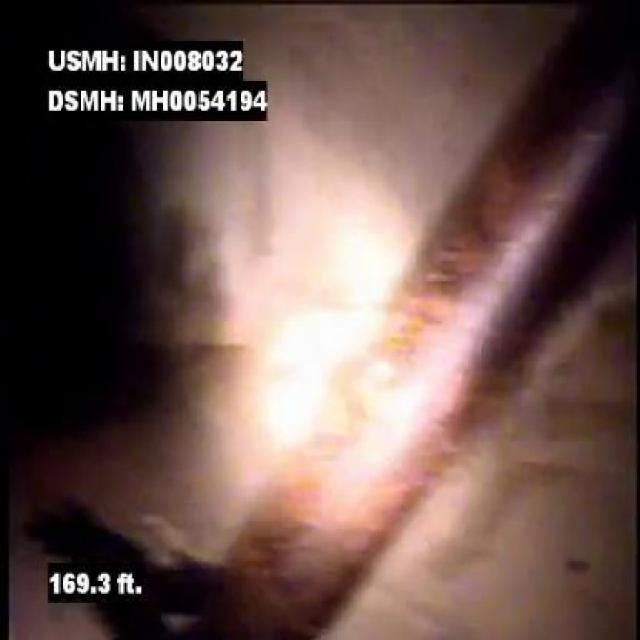Utility intrusion: (191, 339, 540, 626), (368, 4, 635, 336)
